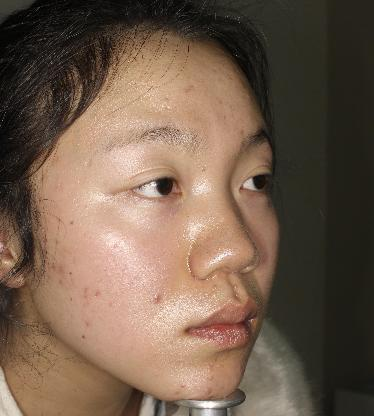Blackheads: (80, 332, 90, 343)
Papules: (146, 288, 168, 306)
